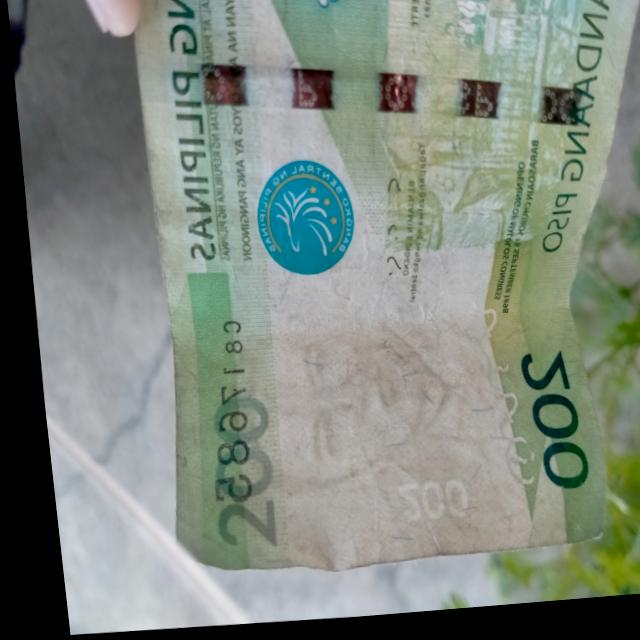security_thread: (135, 33, 606, 168)
see_through_mark: (451, 291, 534, 502)
serial_number: (184, 319, 247, 513)
value_watermark: (376, 471, 460, 539)
watermark: (215, 282, 498, 516)
